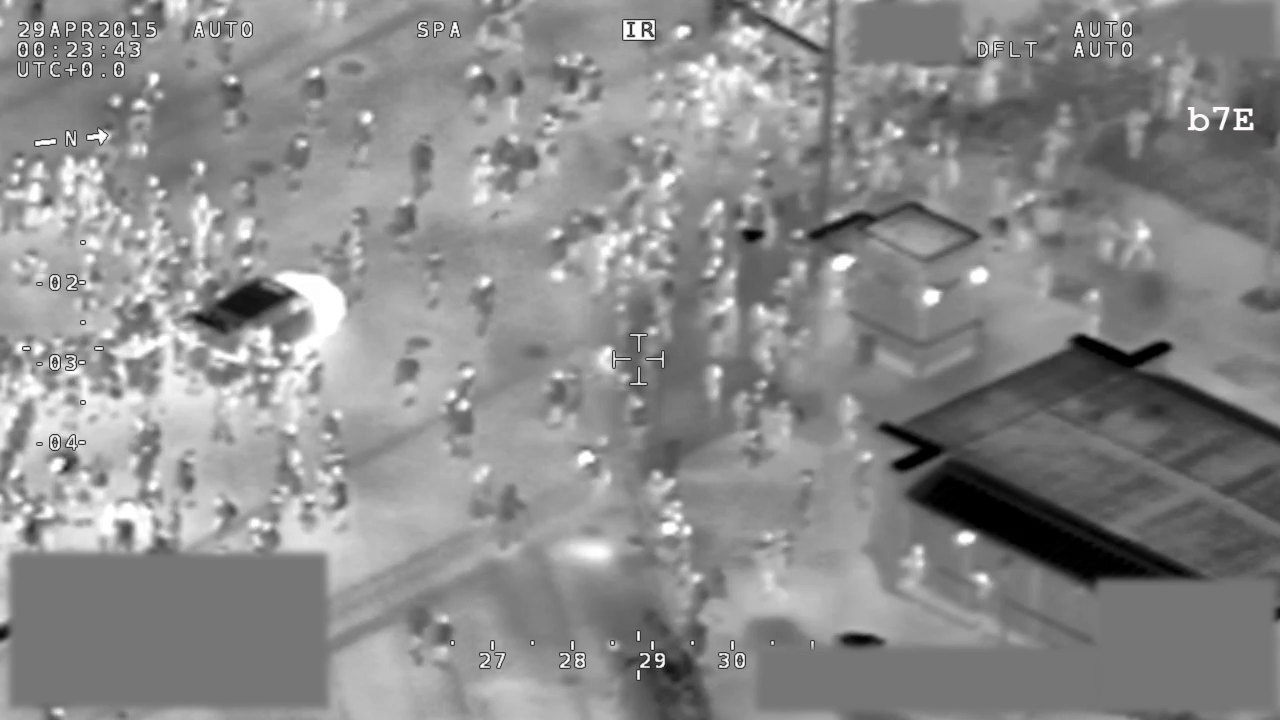vehicle: (182, 263, 349, 373)
